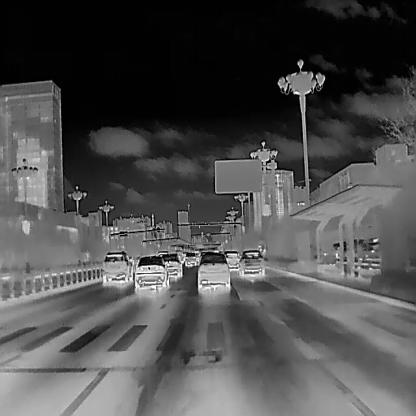car: (132, 254, 168, 292), (197, 253, 229, 293), (102, 250, 131, 284), (238, 247, 264, 275), (161, 252, 182, 280), (222, 250, 240, 270), (183, 252, 197, 266)
